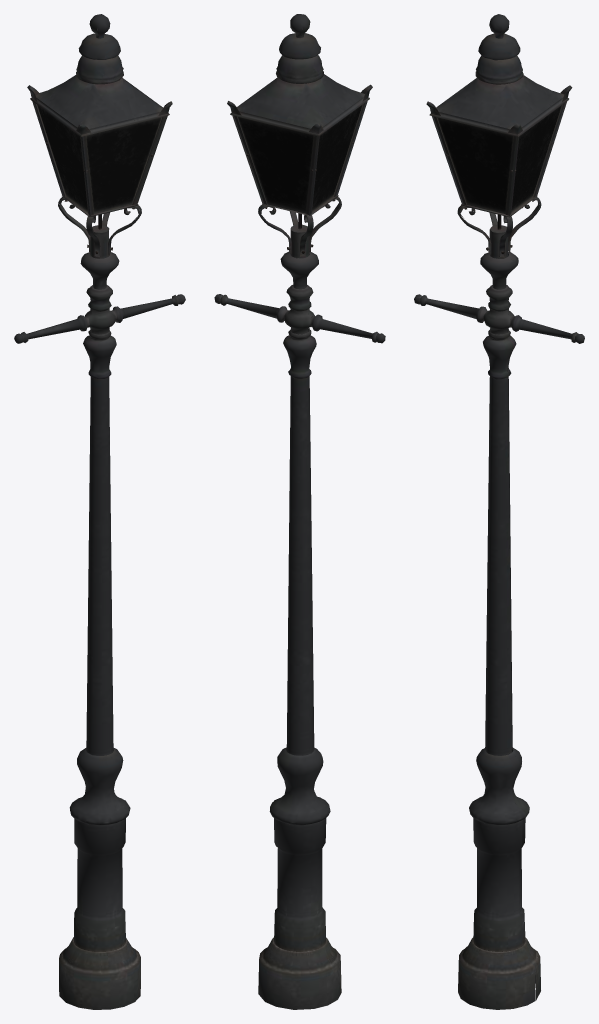
File: ph_street_lamp_01.glb
3 views of the same model, side by side, from view 1: azimuth 30°, elevation 25°; view 2: azimuth 150°, elevation 25°; view 3: azimuth 330°, elevation 25° (orthographic).
Visible parts, largest first — view 1: street_lamp_01; view 2: street_lamp_01; view 3: street_lamp_01.
Part boxes in pixels (left/top/right/bottom): street_lamp_01: left=14, top=14, right=185, bottom=1009; street_lamp_01: left=214, top=14, right=385, bottom=1009; street_lamp_01: left=414, top=14, right=584, bottom=1009.
Size of the model in its own units: 0.7043 by 3.87 by 0.3842.
3 materials, 3 textured.
